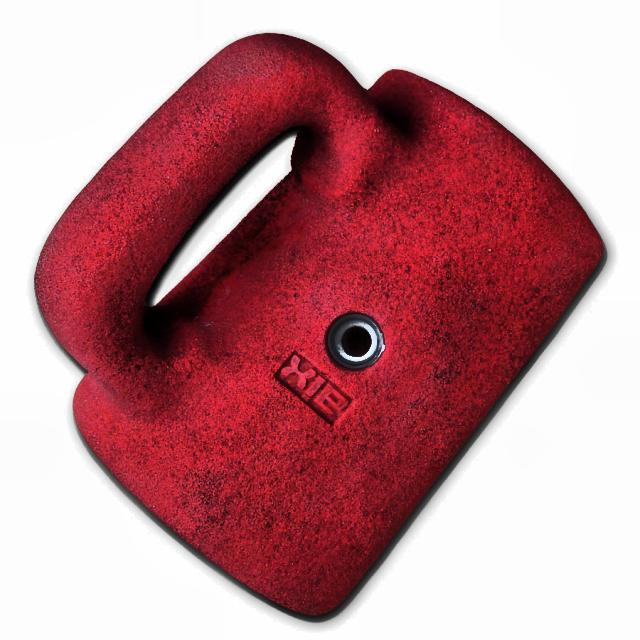Hold: (43, 29, 610, 616)
